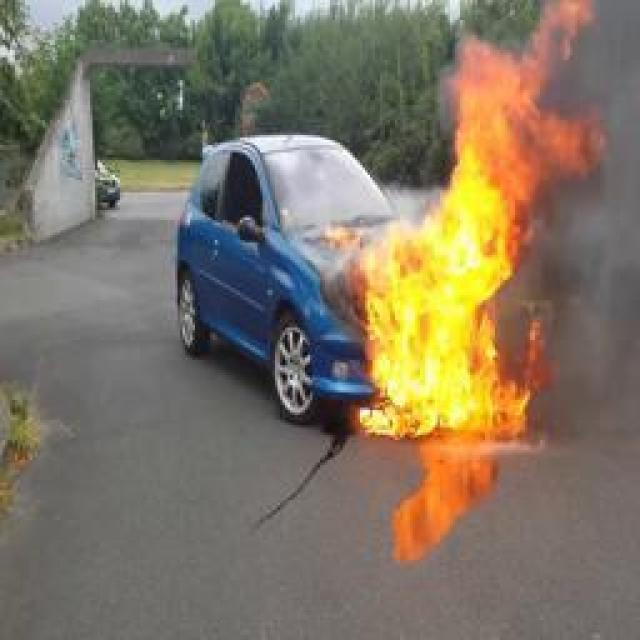Fire: (328, 0, 600, 435)
